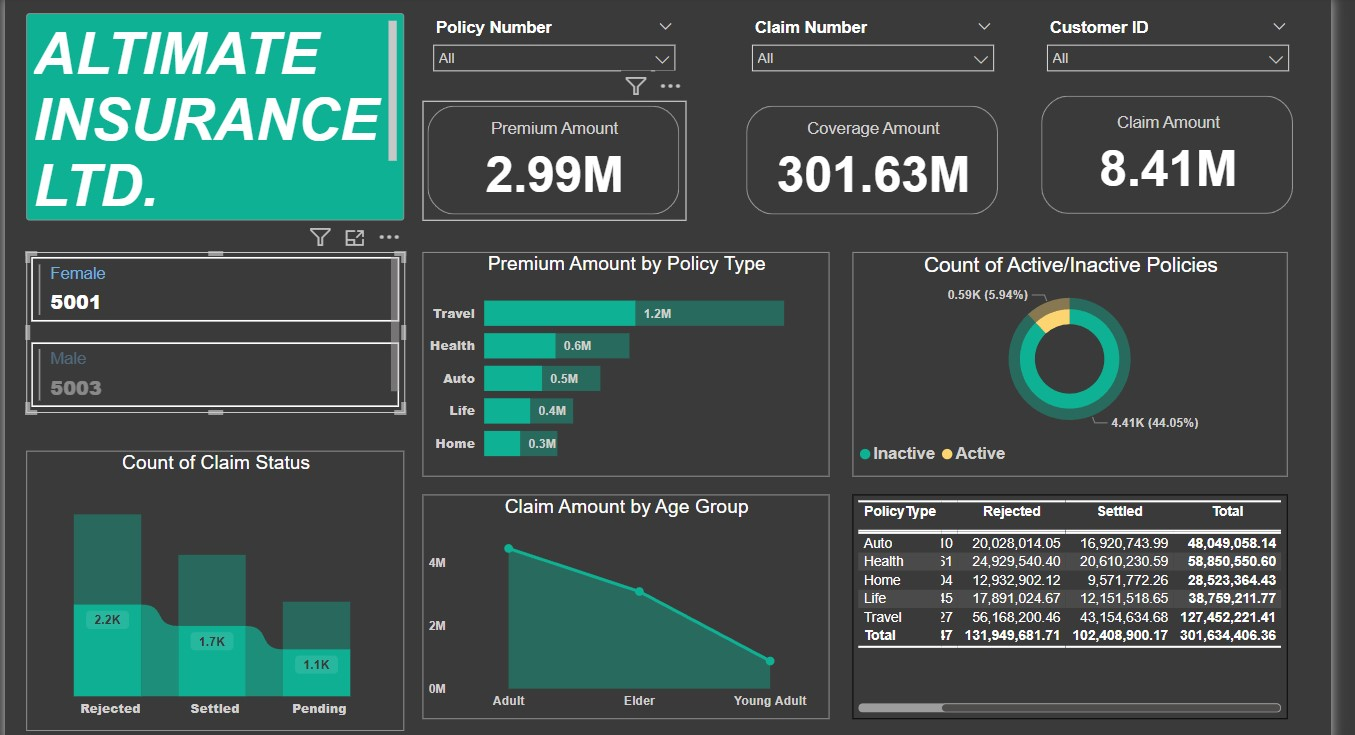

This screenshot's page, from the dashboard's own definition file:
{"tool":"powerbi","page":{"name":"Page 1","canvas":[1280,720],"ordinal":0},"visuals":[{"type":"slicer","fields":{"Values":["InsuranceData.PolicyNumber"]},"box":[403.4,15.1,253.9,75.5],"z":0},{"type":"slicer","fields":{"Values":["InsuranceData.ClaimNumber"]},"box":[710.8,15.1,253.9,75.5],"z":1000},{"type":"slicer","fields":{"Values":["InsuranceData.CustomerID"]},"box":[994.9,15.1,253.9,75.5],"z":2000},{"type":"textbox","box":[20.6,15.1,365,200.3],"z":3000},{"type":"cardVisual","fields":{"Data":["Sum(InsuranceData.PremiumAmount)"]},"box":[403.4,100.2,253.9,115.3],"z":4000},{"type":"cardVisual","fields":{"Data":["Sum(InsuranceData.CoverageAmount)"]},"box":[710.8,100.2,253.9,115.3],"z":5000},{"type":"cardVisual","fields":{"Data":["Sum(InsuranceData.ClaimAmount)"]},"box":[994.9,90.6,253.9,124.9],"z":6000},{"type":"multiRowCard","fields":{"Values":["InsuranceData.Gender","CountNonNull(InsuranceData.Gender)"]},"box":[20.6,245.6,365,156.4],"z":7000},{"type":"ribbonChart","title":"Count of  Claim Status","fields":{"Category":["InsuranceData.ClaimStatus"],"Y":["CountNonNull(InsuranceData.ClaimStatus)"]},"box":[20.6,437.7,365,270.3],"z":8000},{"type":"barChart","fields":{"Category":["InsuranceData.PolicyType"],"Y":["Sum(InsuranceData.PremiumAmount)"]},"box":[403.4,245.6,392.5,216.8],"z":8001},{"type":"lineChart","fields":{"Category":["InsuranceData.Age Group"],"Y":["Sum(InsuranceData.ClaimAmount)"]},"box":[403.4,480.3,392.5,216.8],"z":8002},{"type":"donutChart","title":"Count of Active/Inactive Policies","fields":{"Category":["InsuranceData.Active/Inactive Policy"],"Y":["CountNonNull(InsuranceData.Active/Inactive Policy)"]},"box":[817.8,245.6,419.9,216.8],"z":8003},{"type":"pivotTable","fields":{"Rows":["InsuranceData.PolicyType"],"Values":["Sum(InsuranceData.CoverageAmount)"],"Columns":["InsuranceData.ClaimStatus"]},"box":[817.8,480.3,419.9,216.8],"z":8004}]}

Visuals, with their boxes on the page's 1280x720 design canvas (x1, y1, x2, y2). These are canvas units, not pixel positions in the 1355x735 screenshot, which may show the page scaled, cropped or inside an application window:
slicer - InsuranceData.PolicyNumber: Rect(403, 15, 657, 91)
slicer - InsuranceData.ClaimNumber: Rect(711, 15, 965, 91)
slicer - InsuranceData.CustomerID: Rect(995, 15, 1249, 91)
textbox: Rect(21, 15, 386, 215)
cardVisual - Sum(InsuranceData.PremiumAmount): Rect(403, 100, 657, 216)
cardVisual - Sum(InsuranceData.CoverageAmount): Rect(711, 100, 965, 216)
cardVisual - Sum(InsuranceData.ClaimAmount): Rect(995, 91, 1249, 216)
multiRowCard - InsuranceData.Gender x CountNonNull(InsuranceData.Gender): Rect(21, 246, 386, 402)
"Count of  Claim Status" ribbonChart: Rect(21, 438, 386, 708)
barChart - InsuranceData.PolicyType x Sum(InsuranceData.PremiumAmount): Rect(403, 246, 796, 462)
lineChart - InsuranceData.Age Group x Sum(InsuranceData.ClaimAmount): Rect(403, 480, 796, 697)
"Count of Active/Inactive Policies" donutChart: Rect(818, 246, 1238, 462)
pivotTable - InsuranceData.PolicyType x Sum(InsuranceData.CoverageAmount): Rect(818, 480, 1238, 697)
